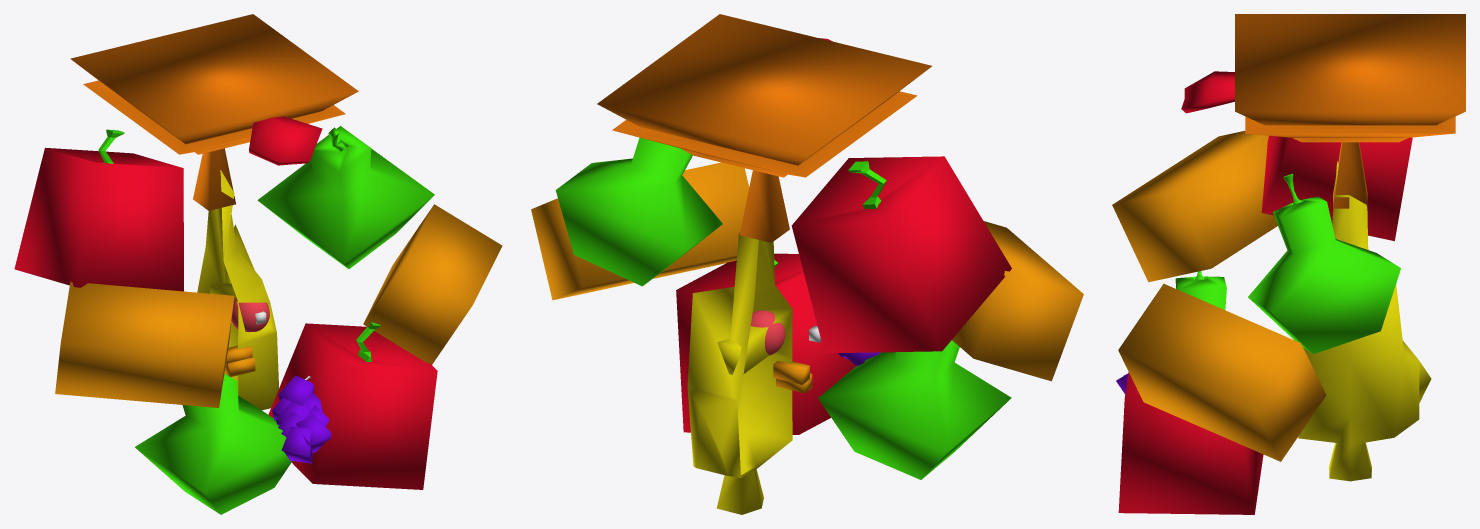
File: fruer bet.glb66.glb
The picture shows the model from 3 angles, left to right: view 1: azimuth 30°, elevation 25°; view 2: azimuth 150°, elevation 25°; view 3: azimuth 270°, elevation 25°; orthographic projection. The views are drawn at different scales.
Parts seen in each view (by area): view 1: Cube.001, Cube.022, Cube.023, Cube.004, Cube.020, Cube.024, Cube.002, Cube, Plane.002, Cube.018, Sphere, Cube.016 (+1 smaller); view 2: Cube.001, Cube.022, Cube, Cube.002, Cube.020, Cube.023, Cube.024, Cube.004, Sphere, Cube.008, Cube.021; view 3: Cube.001, Cube.024, Cube.023, Cube, Cube.020, Cube.004, Cube.022, Plane.002, Cube.002.
Part boxes in pixels (x1=…): Cube.001: x1=70, y1=14, x2=358, y2=210; Cube.022: x1=14, y1=147, x2=184, y2=291; Cube.023: x1=55, y1=281, x2=234, y2=407; Cube.004: x1=268, y1=323, x2=437, y2=489; Cube.020: x1=257, y1=126, x2=434, y2=268; Cube.024: x1=363, y1=204, x2=502, y2=364; Cube.002: x1=135, y1=373, x2=292, y2=514; Cube: x1=197, y1=170, x2=278, y2=410; Plane.002: x1=249, y1=116, x2=322, y2=165; Cube.018: x1=281, y1=426, x2=312, y2=463; Sphere: x1=231, y1=298, x2=269, y2=332; Cube.016: x1=296, y1=414, x2=331, y2=453; Cube.001: x1=597, y1=14, x2=931, y2=242; Cube.022: x1=791, y1=156, x2=1011, y2=353; Cube: x1=687, y1=232, x2=792, y2=514; Cube.002: x1=818, y1=340, x2=1011, y2=479; Cube.020: x1=555, y1=137, x2=722, y2=286; Cube.023: x1=952, y1=221, x2=1083, y2=381; Cube.024: x1=531, y1=162, x2=749, y2=300; Cube.004: x1=676, y1=253, x2=855, y2=434; Sphere: x1=750, y1=310, x2=785, y2=355; Cube.008: x1=773, y1=361, x2=809, y2=384; Cube.021: x1=848, y1=161, x2=886, y2=208; Cube.001: x1=1235, y1=14, x2=1465, y2=208; Cube.024: x1=1118, y1=283, x2=1326, y2=461; Cube.023: x1=1112, y1=131, x2=1277, y2=282; Cube: x1=1298, y1=161, x2=1431, y2=481; Cube.020: x1=1248, y1=196, x2=1400, y2=353; Cube.004: x1=1118, y1=372, x2=1263, y2=514; Cube.022: x1=1261, y1=135, x2=1412, y2=240; Plane.002: x1=1181, y1=71, x2=1234, y2=113; Cube.002: x1=1175, y1=276, x2=1226, y2=309.
Size of the model in its own units: 4.33 by 3.29 by 2.65.
